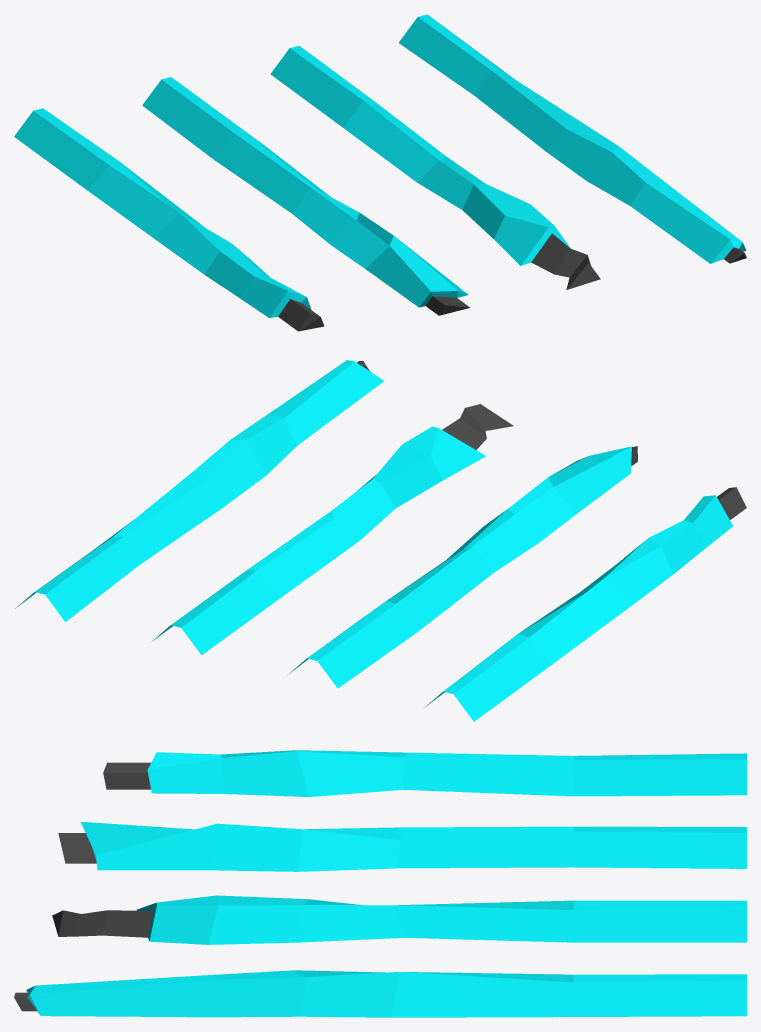
File: Deco Wire U.fbx
3 renders of one model, top to bottom at view 1: azimuth 30°, elevation 25°; view 2: azimuth 150°, elevation 25°; view 3: azimuth 270°, elevation 25°, orthographic. The views are drawn at different scales.
Parts seen in each view (by area): view 1: Deco Wire U; view 2: Deco Wire U; view 3: Deco Wire U.
Part boxes in pixels (x1,y1,x2,y2): Deco Wire U: [14, 14, 746, 331]; Deco Wire U: [15, 360, 746, 721]; Deco Wire U: [14, 750, 746, 1017].
Size of the model in its own units: 68.81 by 4.21 by 84.14.
